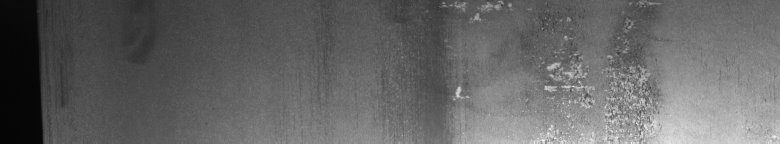hc: (439, 4, 655, 136)
